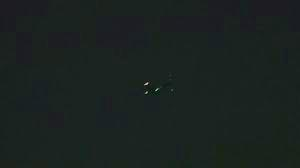Plane: (130, 77, 164, 98)
